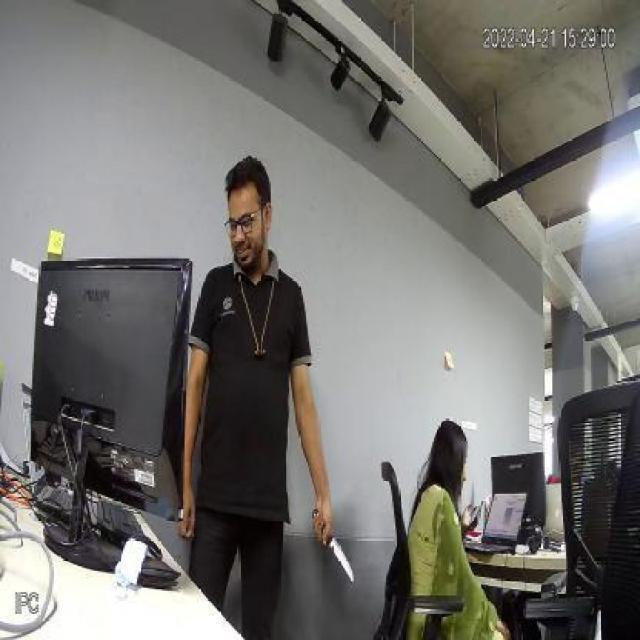-: (317, 513, 355, 590)
